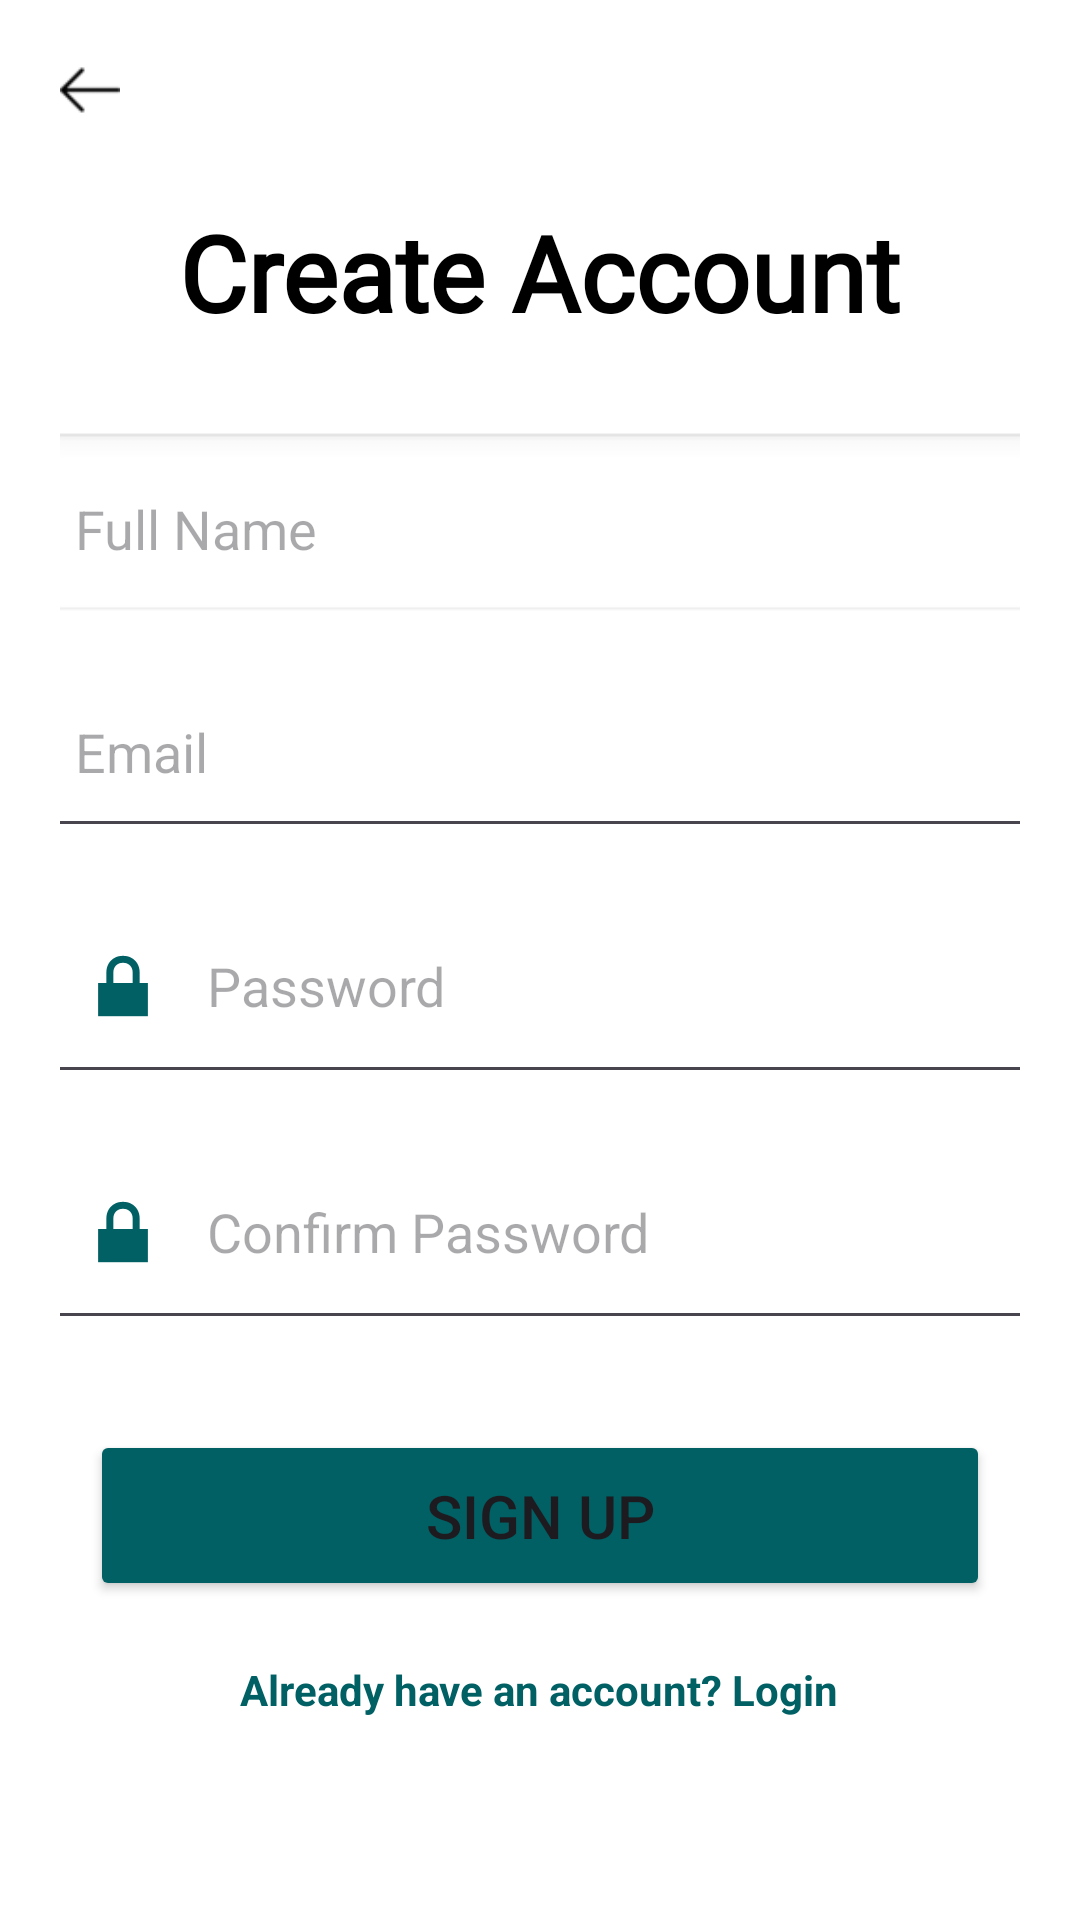

Icon click points for this 1080×1920 phone screenshot, format point (x, y):
Back: point (90, 90)
